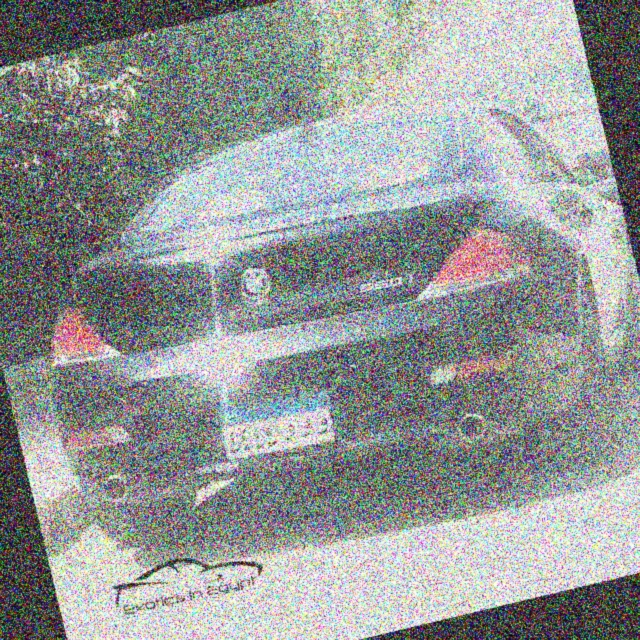License Plate: (212, 381, 343, 470)
